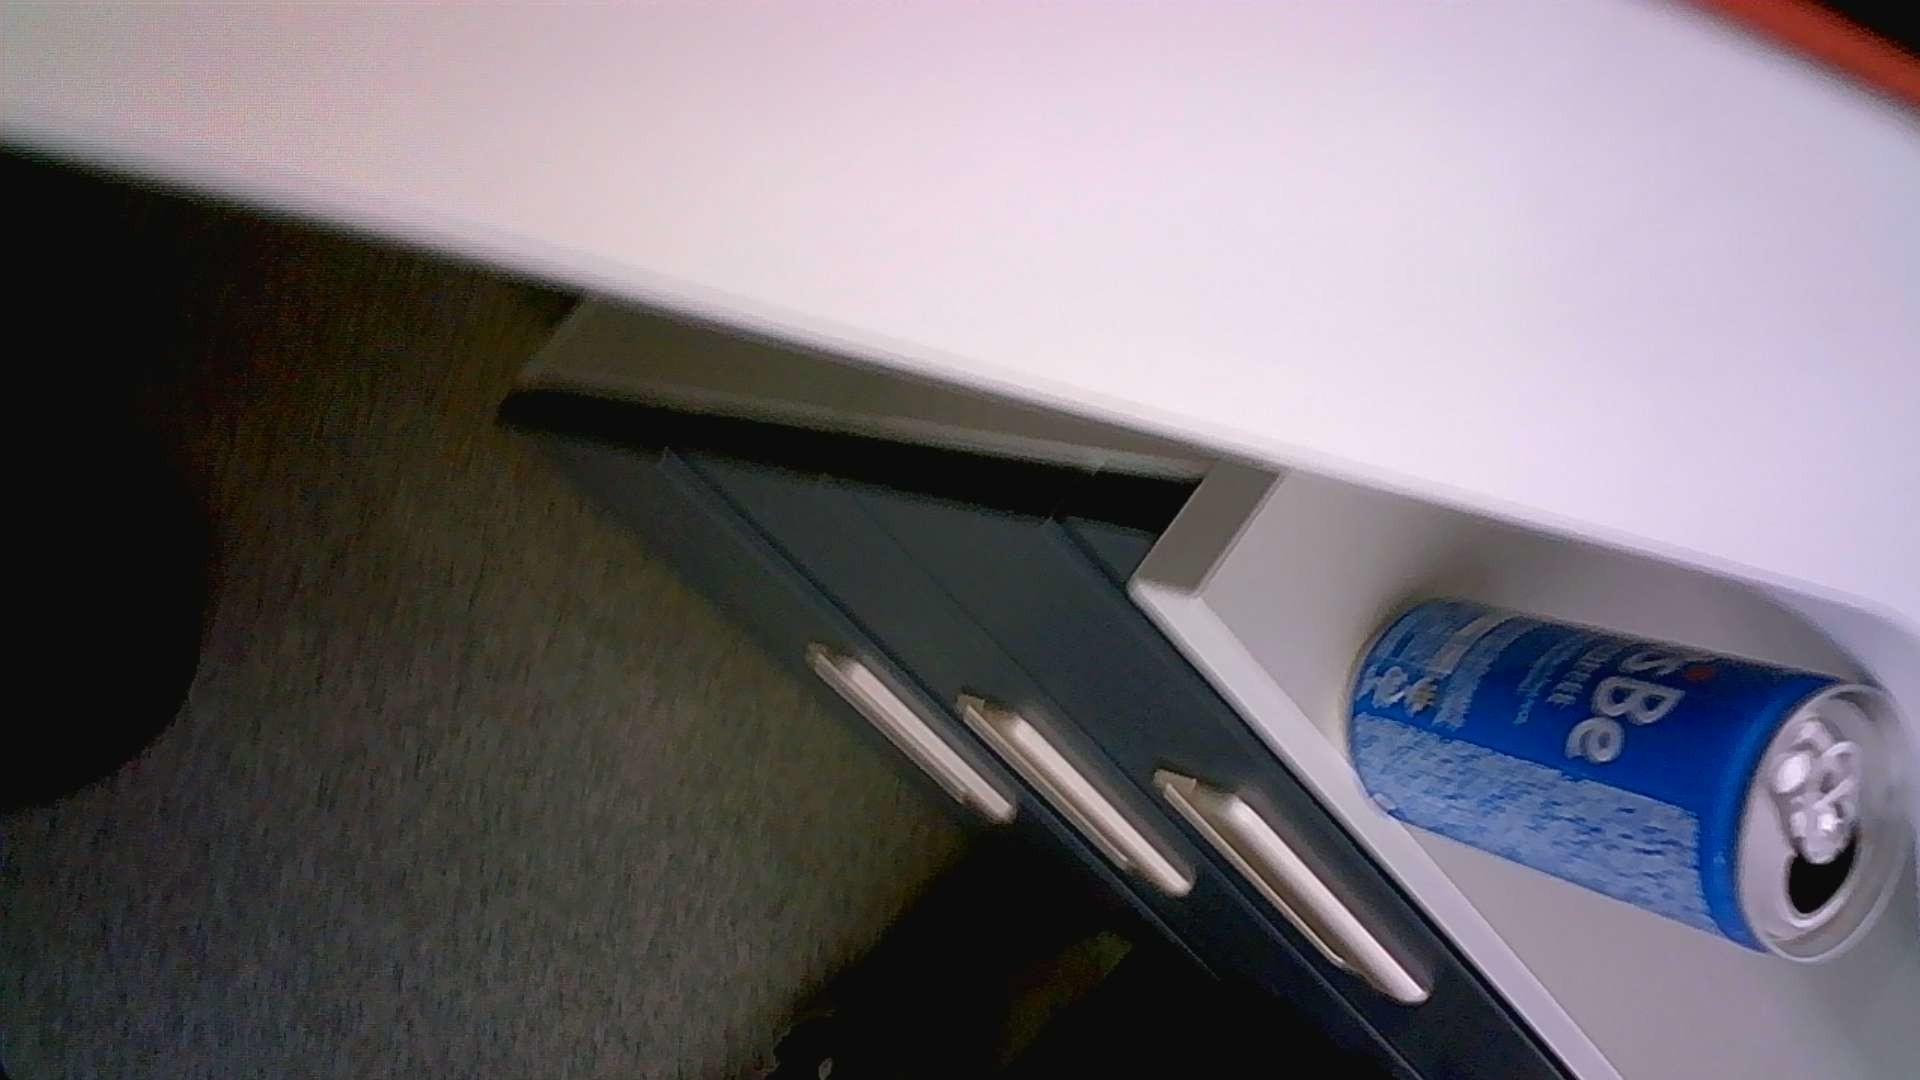letsbe: (1346, 589, 1916, 965)
